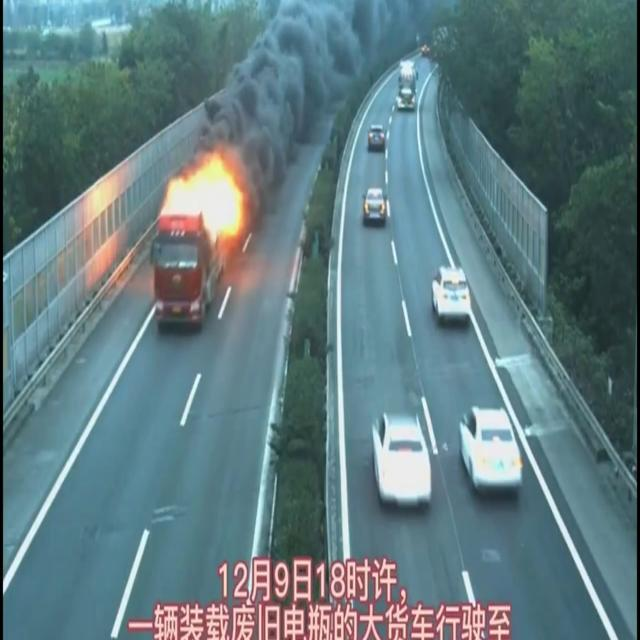normal: (359, 385, 534, 537)
single accident: (122, 43, 260, 343)
